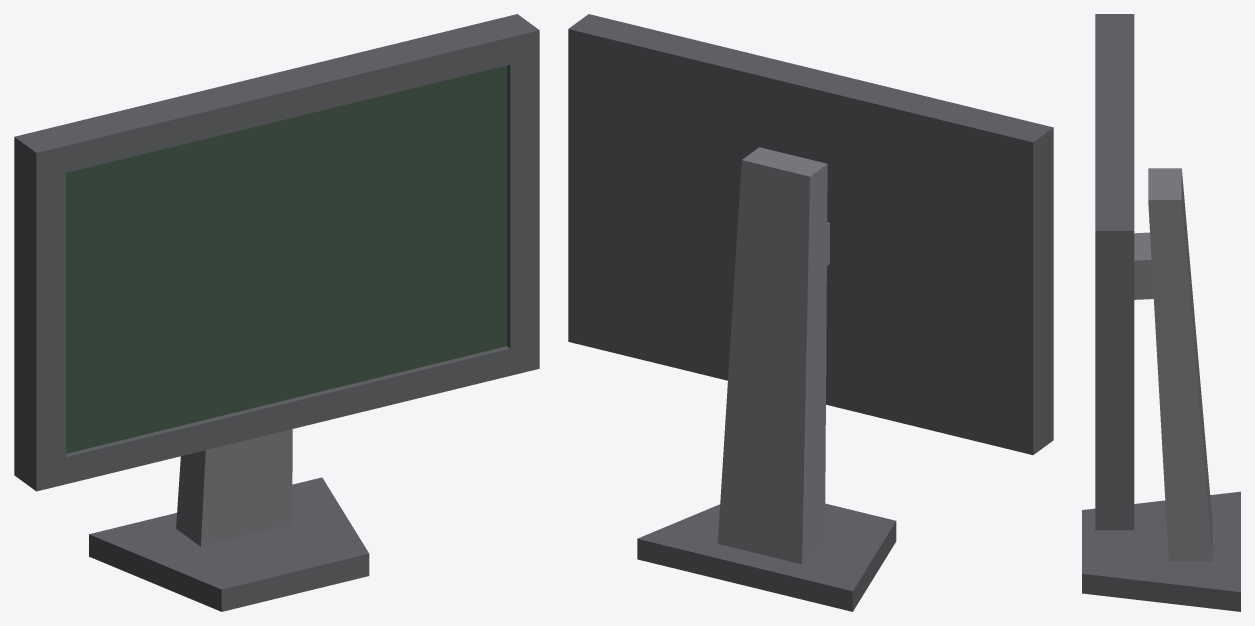
The model's file is monitor.fbx.
The picture shows the model from 3 angles, left to right: view 1: azimuth 30°, elevation 25°; view 2: azimuth 150°, elevation 25°; view 3: azimuth 270°, elevation 25°; orthographic projection. The views are drawn at different scales.
Visible parts, largest first — view 1: monitor; view 2: monitor; view 3: monitor.
Boxes of the visible parts, x1,y1,x2,y2 form: monitor: [14, 14, 539, 611]; monitor: [568, 14, 1053, 611]; monitor: [1082, 14, 1240, 611].
Bounding box in the file's own units: 73.03 × 68.91 × 22.61.
